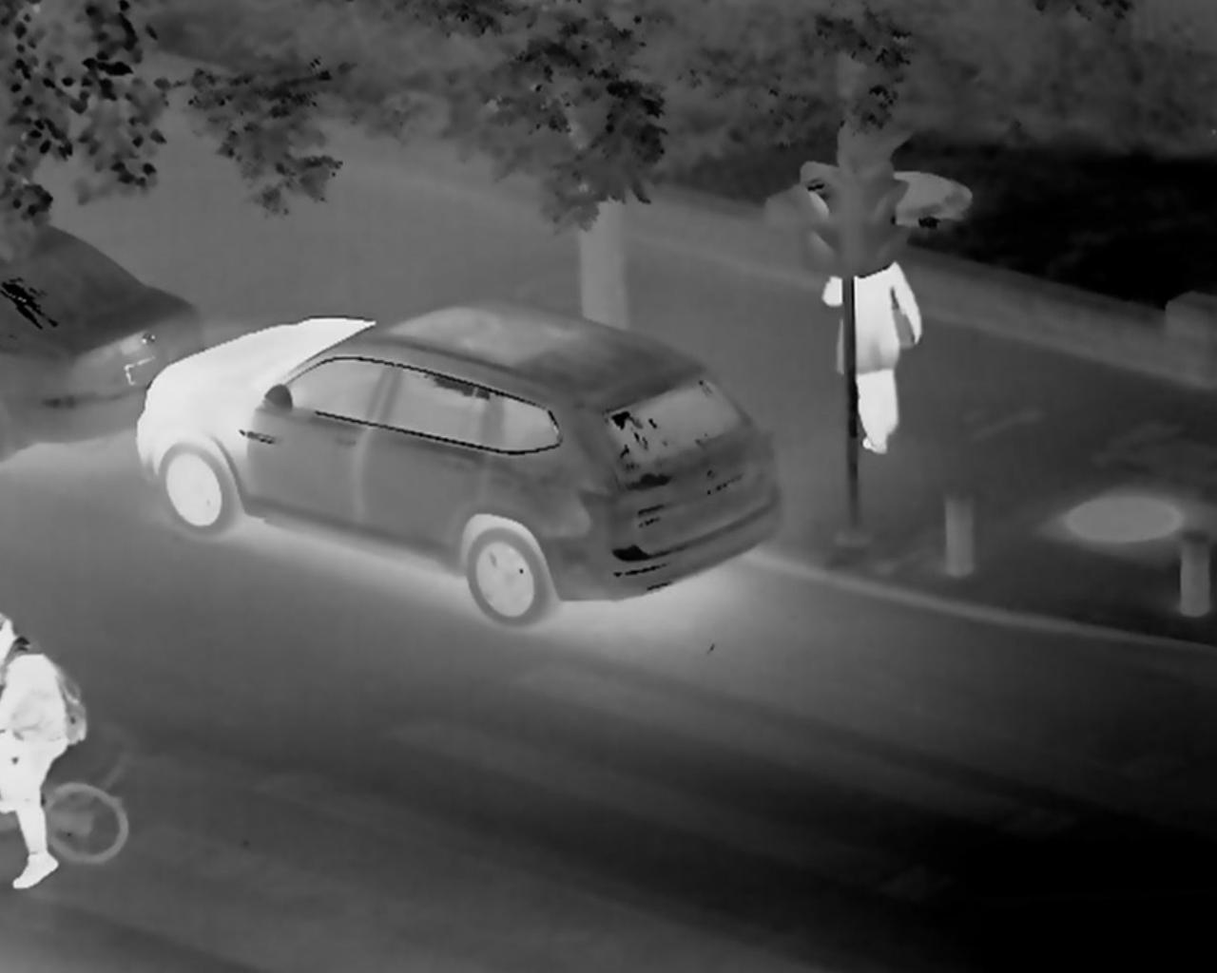person: (838, 265, 914, 440)
